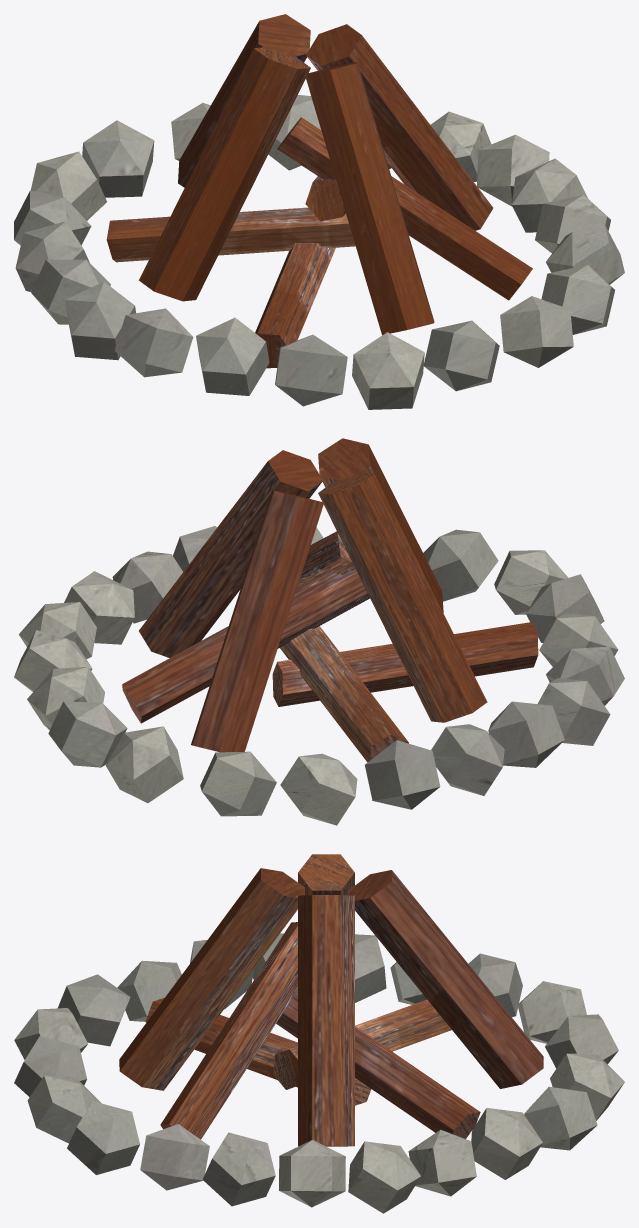
Rendered from campfire.fbx.
3 renders of one model, top to bottom at view 1: azimuth 30°, elevation 25°; view 2: azimuth 150°, elevation 25°; view 3: azimuth 270°, elevation 25°, orthographic. The views are drawn at different scales.
Parts seen in each view (by area): view 1: Cylinder, Icosphere; view 2: Cylinder, Icosphere; view 3: Cylinder, Icosphere.
Part boxes in pixels (x1,y1,x2,y2): Cylinder: [106, 14, 532, 368]; Icosphere: [14, 95, 624, 409]; Cylinder: [122, 438, 538, 762]; Icosphere: [14, 526, 624, 825]; Cylinder: [119, 854, 543, 1146]; Icosphere: [14, 933, 624, 1213].
Size of the model in its own units: 2027 by 861 by 2152.
